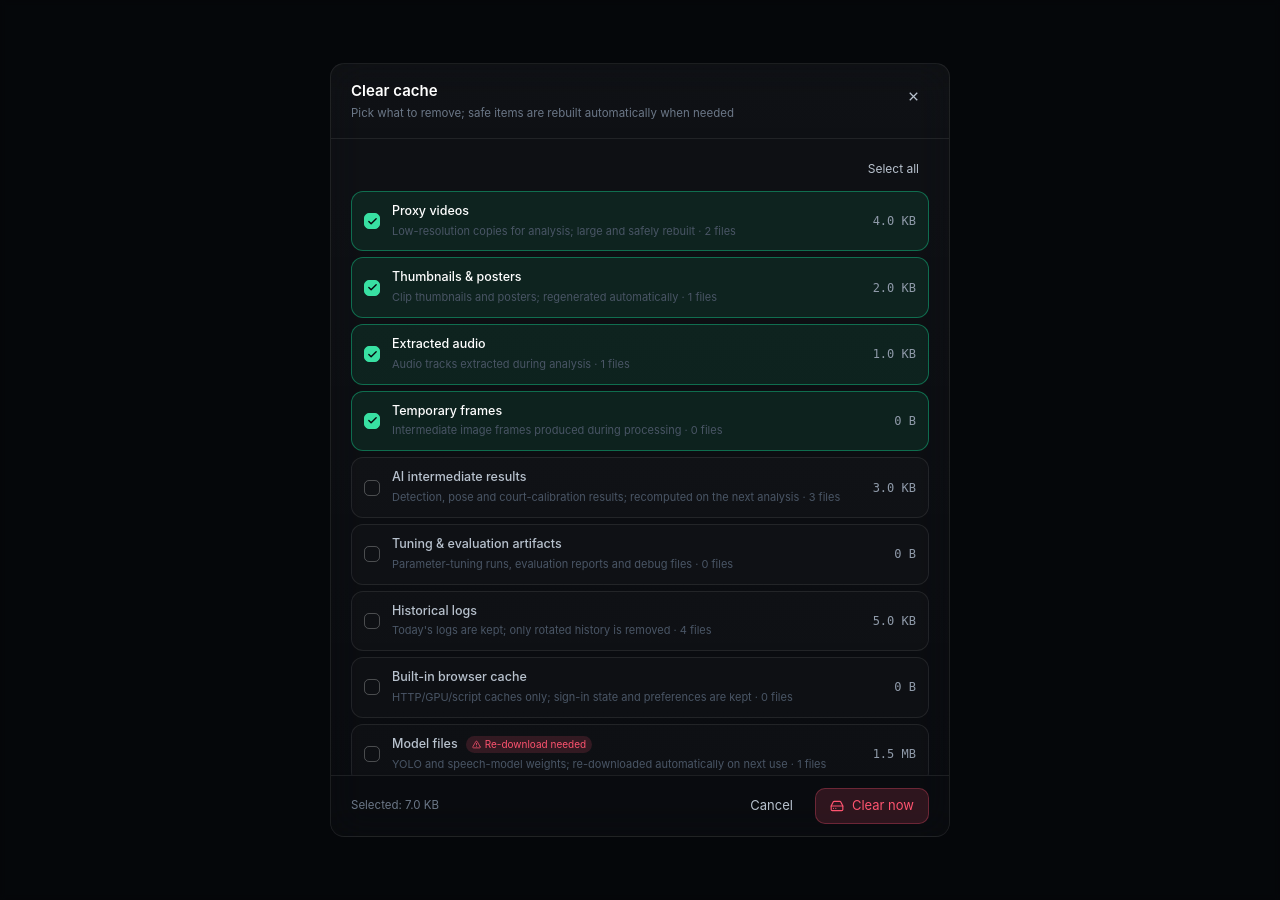
CacheClearDialog › select-all checks every target and deselect-all clears the selection
This screenshot has width=1280, height=900.
expect the checkbox labelled "Proxy videos" is shown: met, box [351,191,929,251]
Click the button "Select all".
click(893, 169)  # box [858,155,929,183]
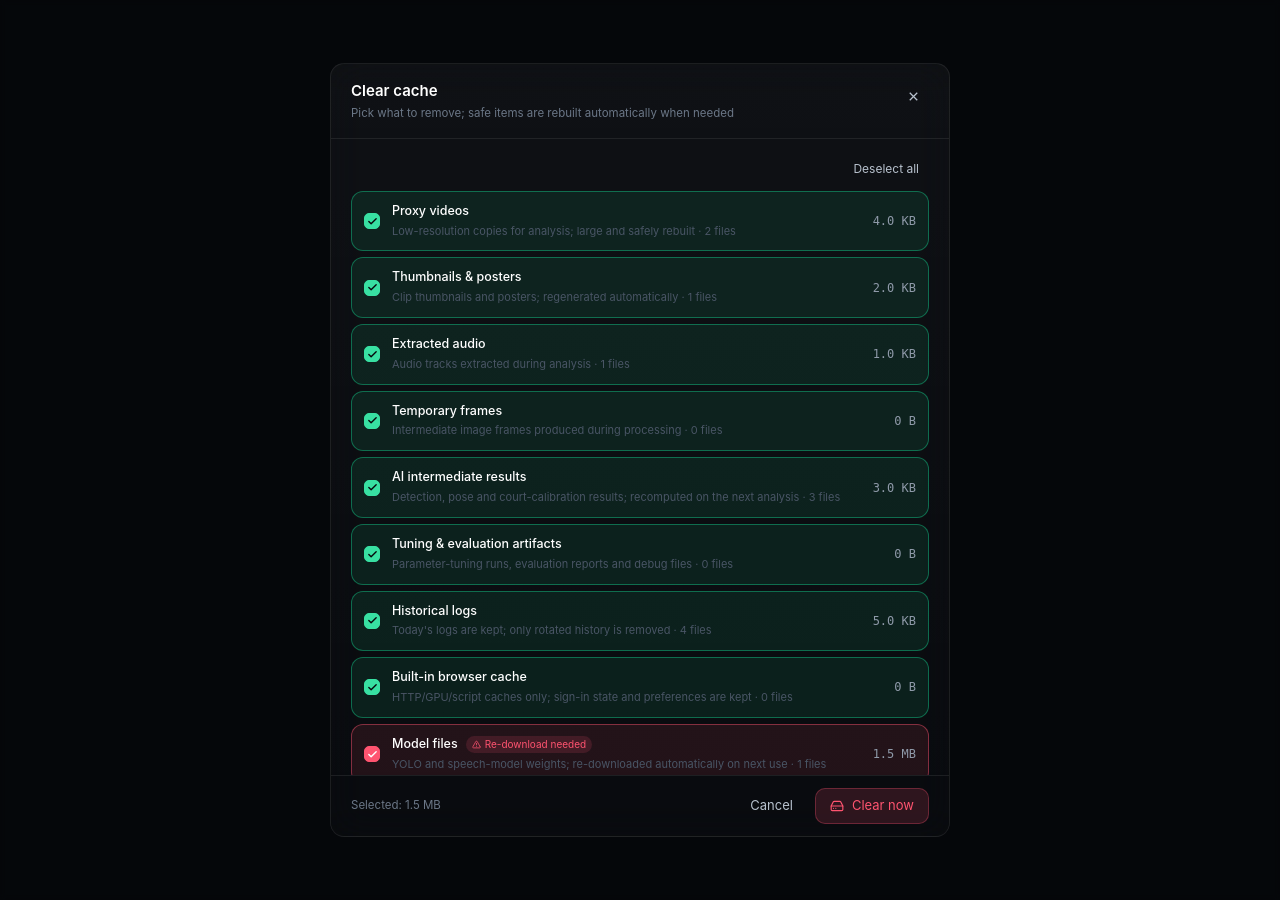
expect the checkbox labelled "Model files" is checked: met, box [351,724,929,775]
Click the button "Deselect all".
click(886, 169)  # box [843,155,929,183]
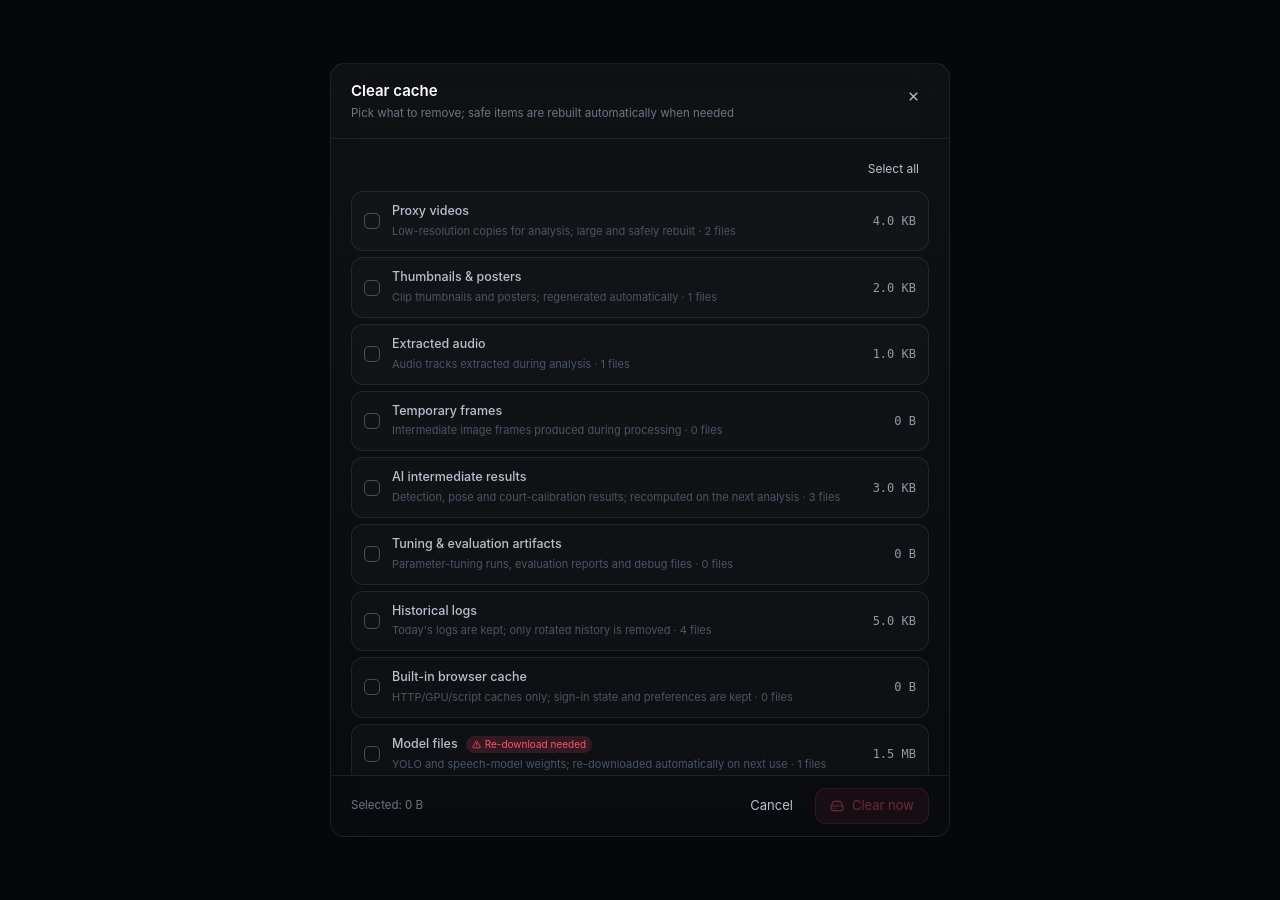
expect the button "Clear now" is disabled: met, box [815,788,929,824]
